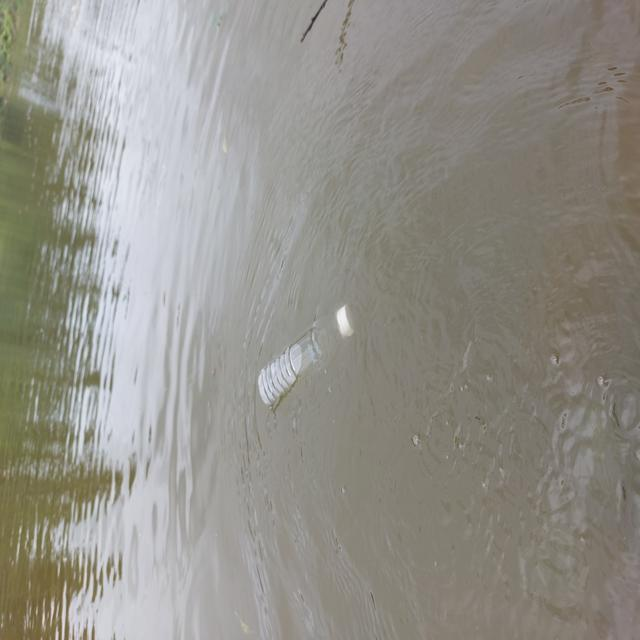waterbottle: (252, 298, 373, 404)
